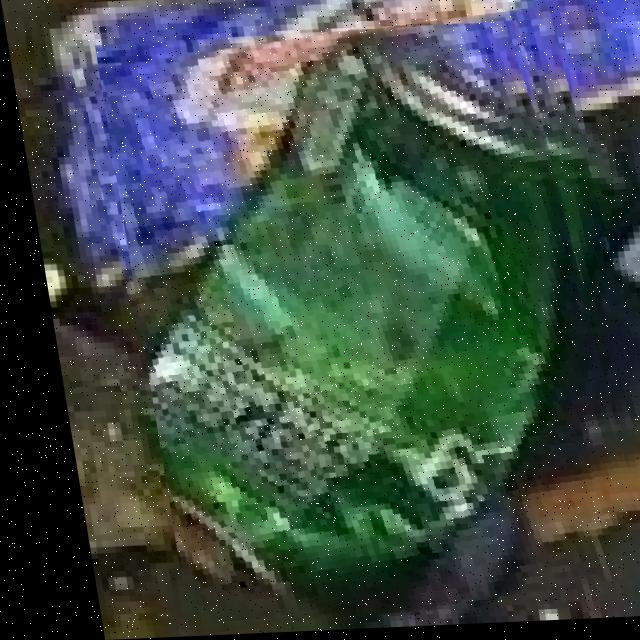litter: (134, 33, 553, 621)
